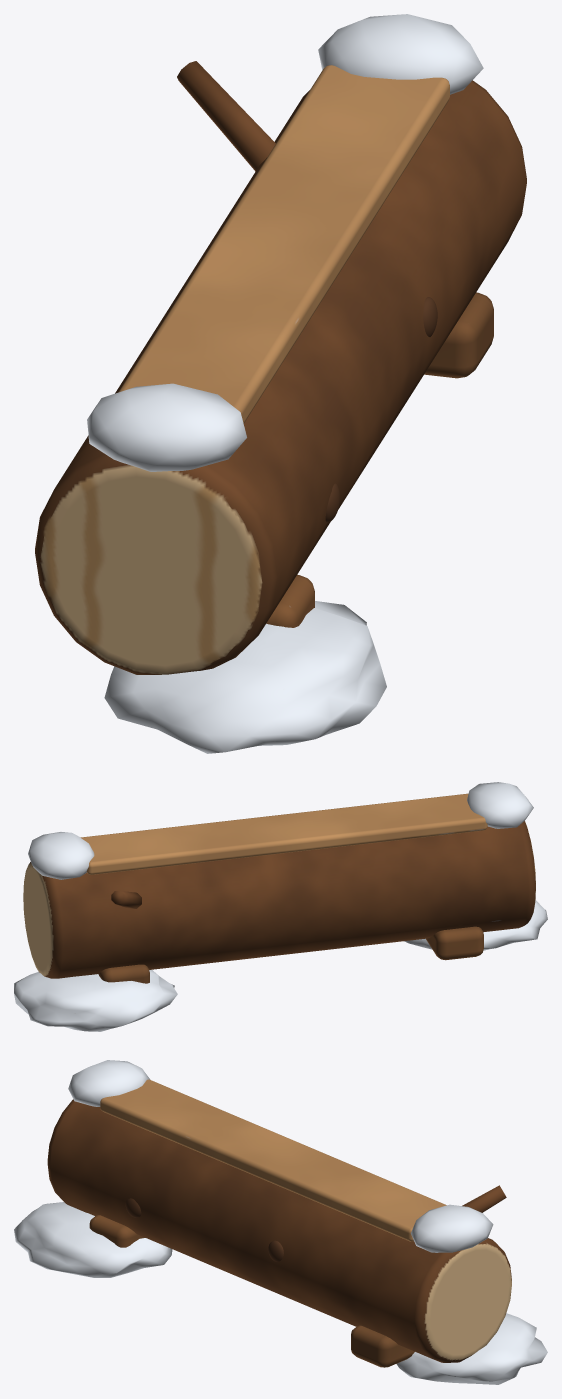
Rendered from log_seat.glb.
3 views of the same model, one above another, from view 1: azimuth 30°, elevation 25°; view 2: azimuth 150°, elevation 25°; view 3: azimuth 270°, elevation 25° (orthographic). The views are drawn at different scales.
Parts seen in each view (by area): view 1: chock; view 2: chock; view 3: chock.
Part boxes in pixels (x1,y1,x2,y2): chock: (35, 14, 526, 753); chock: (14, 782, 547, 1031); chock: (14, 1060, 547, 1384).
Bounding box in the file's own units: 1.38 × 0.5797 × 1.59.
1 material, 1 textured.
